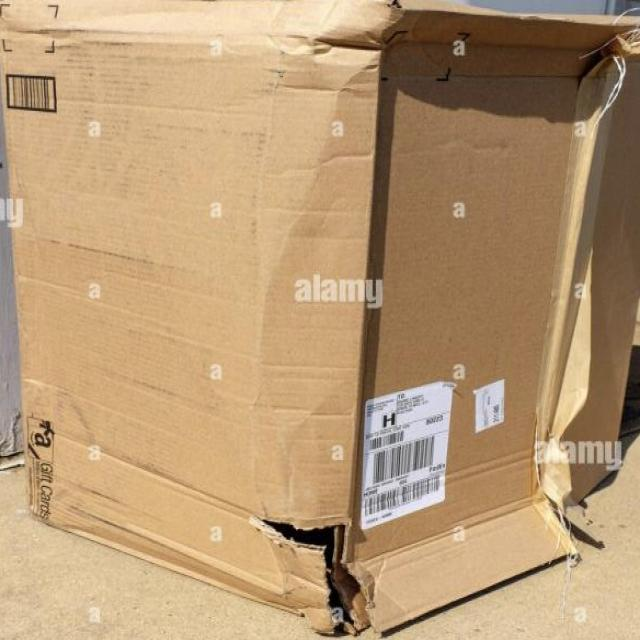damaged: (252, 510, 356, 633)
